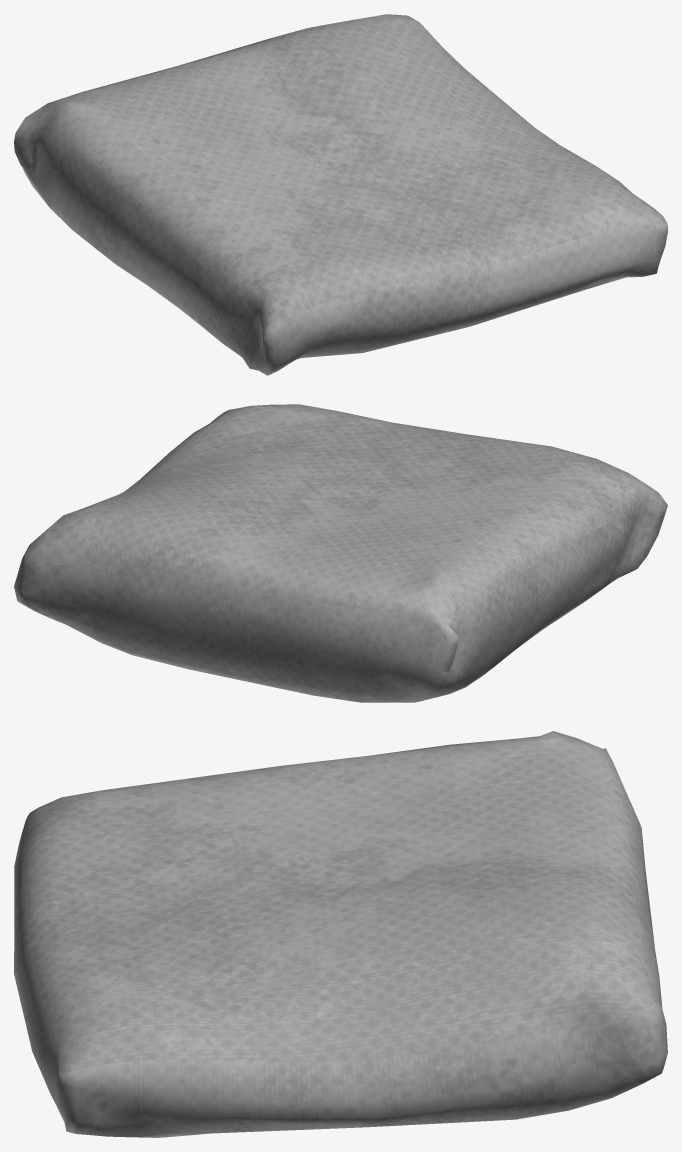
Rendered from SM_Warehouse-ThrowPillows_low_005.fbx.
3 views of the same model, one above another, from view 1: azimuth 30°, elevation 25°; view 2: azimuth 150°, elevation 25°; view 3: azimuth 270°, elevation 25° (orthographic). The views are drawn at different scales.
Visible parts, largest first — view 1: SM_Warehouse-ThrowPillows_low_005_LOD0; view 2: SM_Warehouse-ThrowPillows_low_005_LOD0; view 3: SM_Warehouse-ThrowPillows_low_005_LOD0.
Part boxes in pixels (bbox=[...]): SM_Warehouse-ThrowPillows_low_005_LOD0: bbox=[14, 14, 667, 375]; SM_Warehouse-ThrowPillows_low_005_LOD0: bbox=[14, 404, 667, 702]; SM_Warehouse-ThrowPillows_low_005_LOD0: bbox=[14, 731, 667, 1137].
Bounding box in the file's own units: 101 × 103 × 30.78.
1 material, 1 textured.
